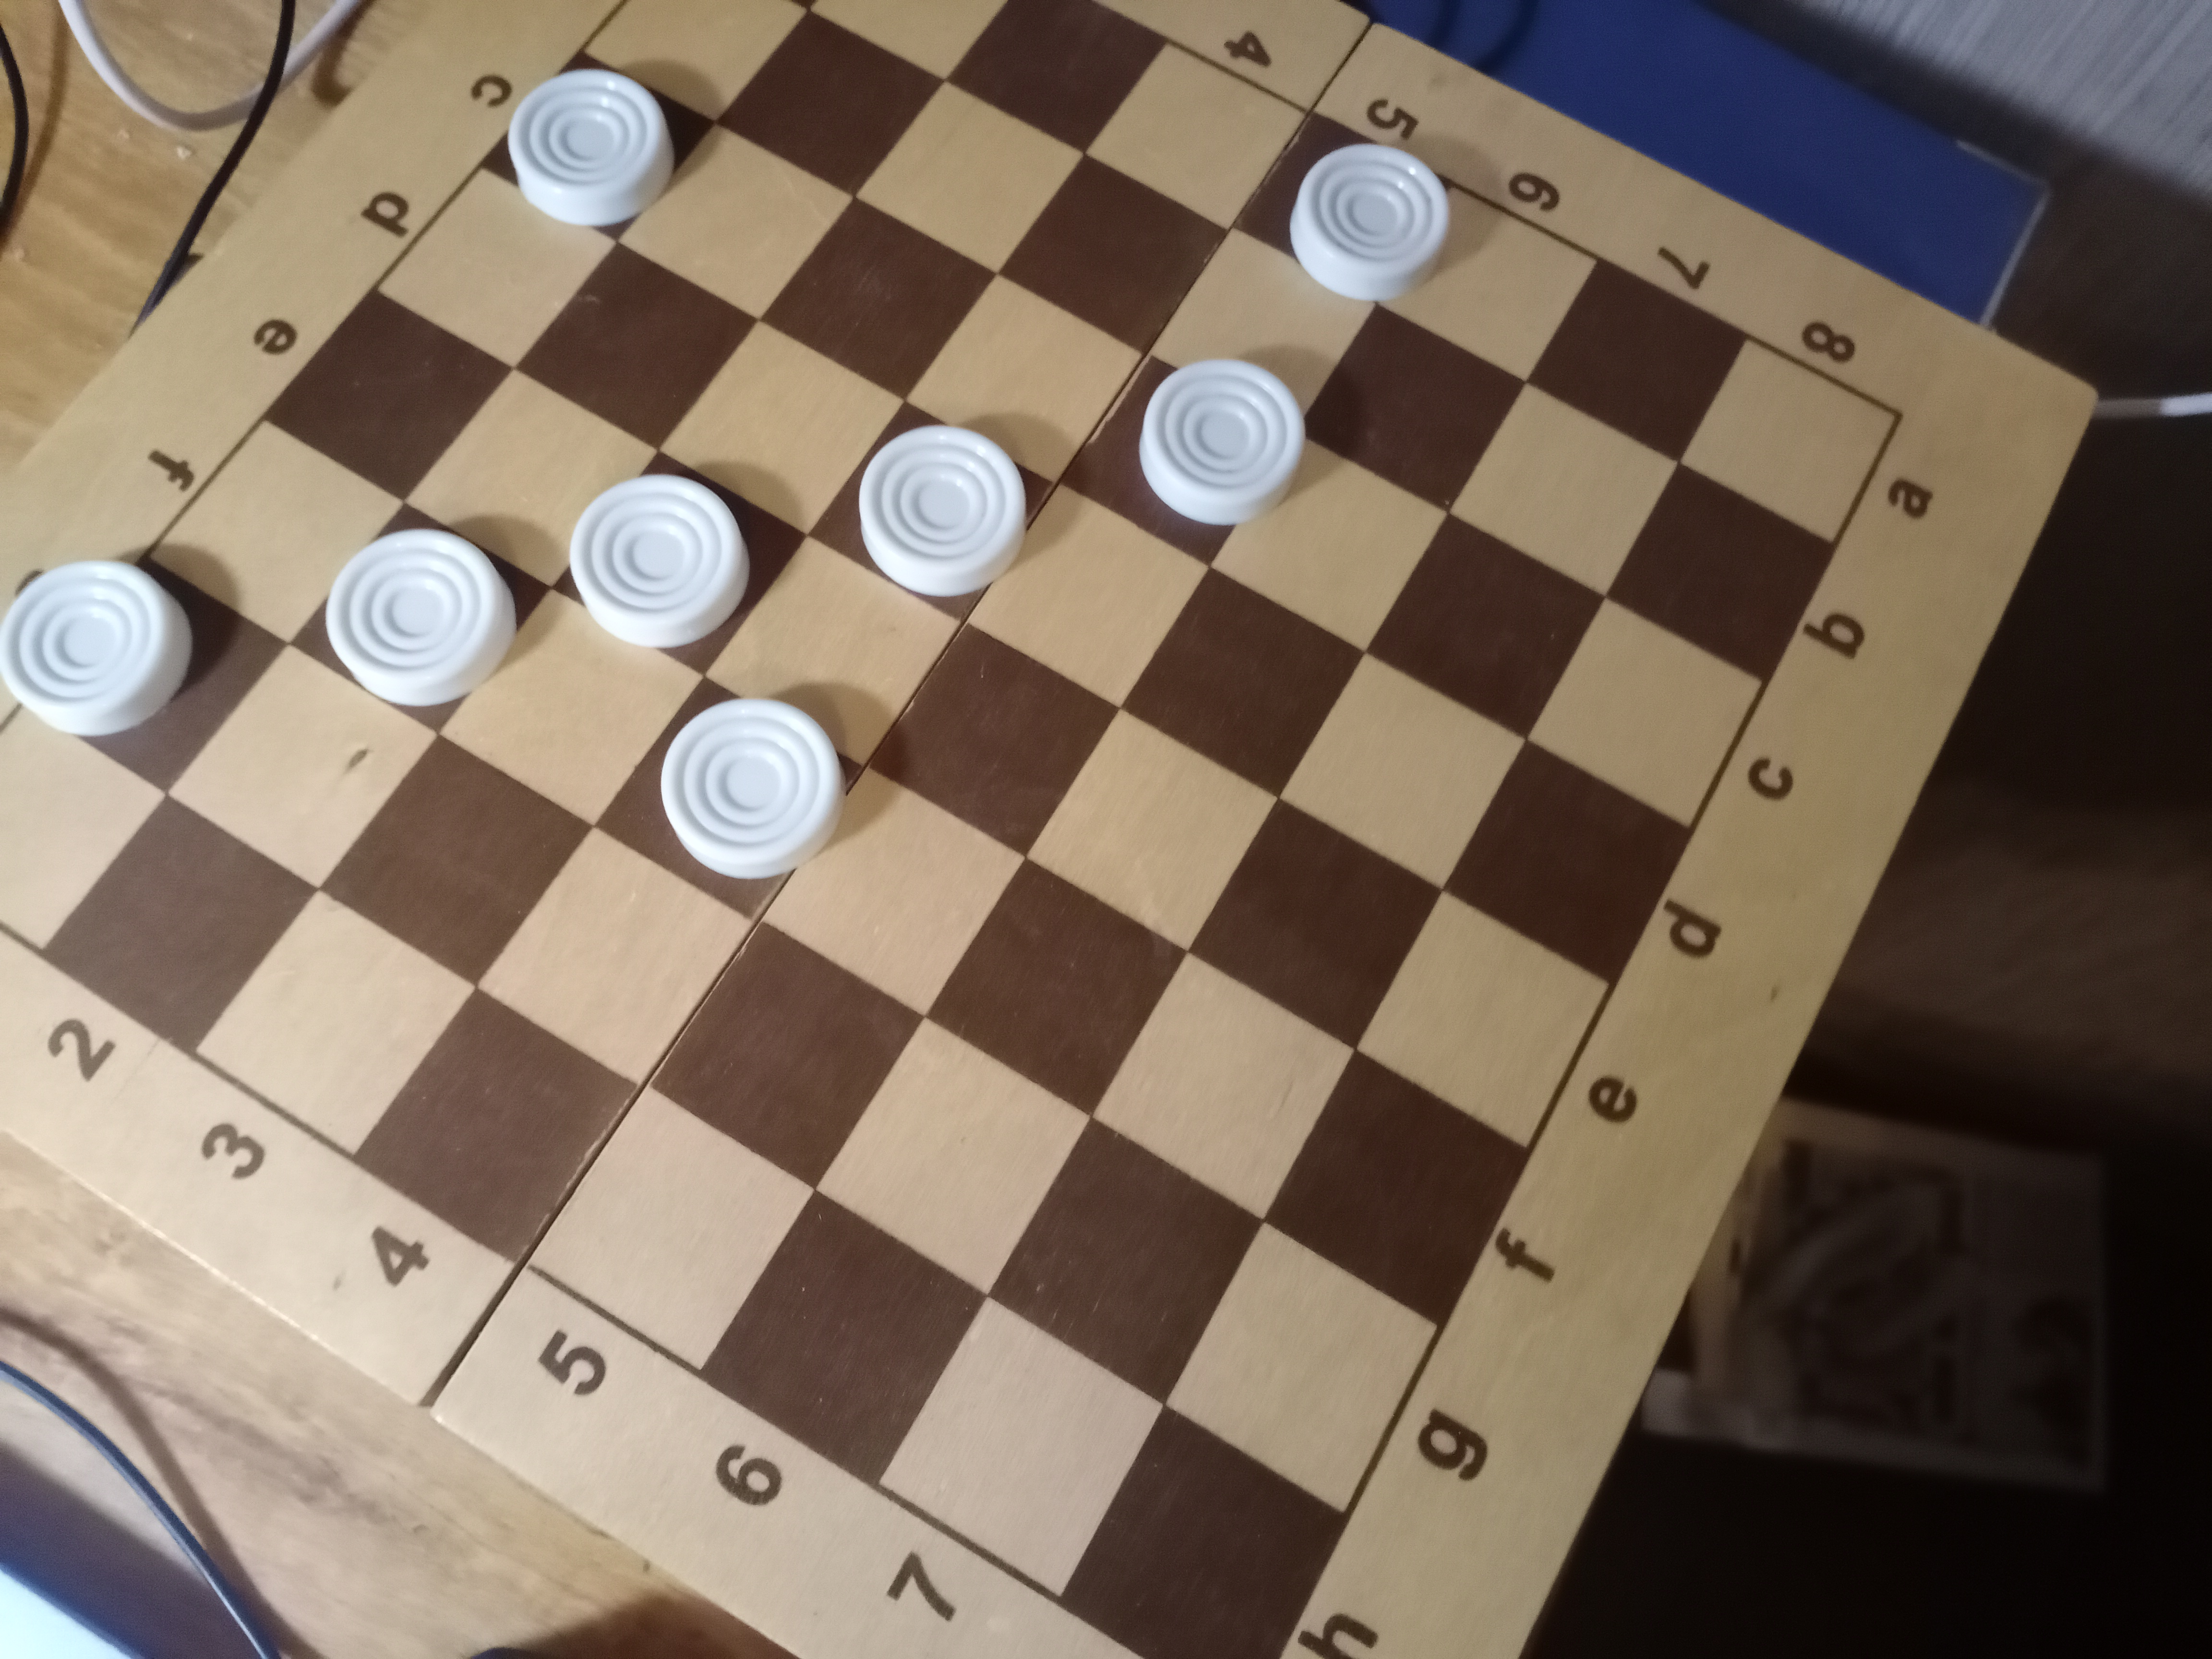White_Draught: (0, 556, 289, 796), (592, 676, 866, 922), (291, 502, 552, 735), (552, 451, 808, 676), (808, 401, 1055, 624), (1055, 355, 1306, 568), (484, 52, 714, 240), (1233, 115, 1451, 305)
